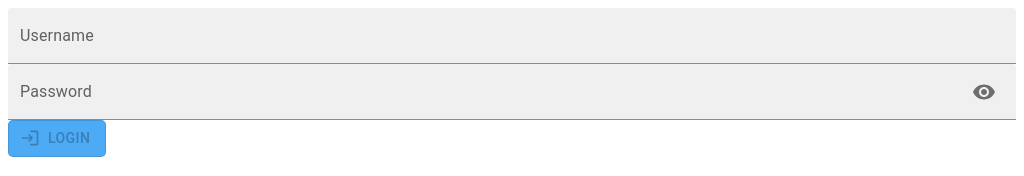
Test case: Login Page › should render login page
Expected: the button "Login" is disabled, [8, 120, 106, 156]
# enter less than 4 characters
In the field labelled "Username": coordinates (512, 36) [8, 8, 1016, 64], type "abc"
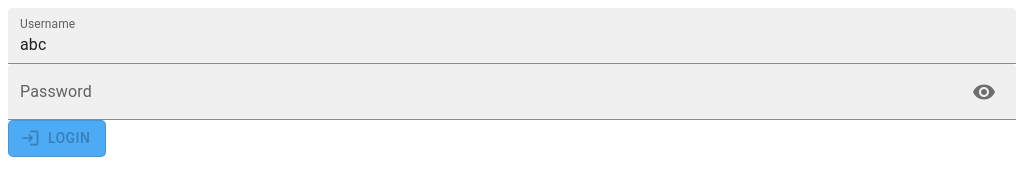
In the password field labelled "Password": coordinates (482, 92) [8, 64, 956, 120], type "123"
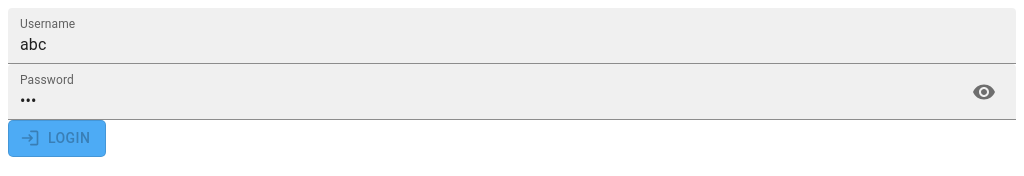
Expected: the button "Login" is disabled, [8, 120, 106, 156]
# enter 4 characters
Replace the text in the field labelled "Username" with "abcd": coordinates (512, 36) [8, 8, 1016, 64]
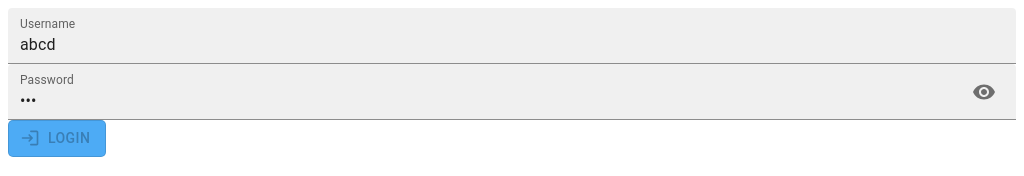
In the password field labelled "Password": coordinates (482, 92) [8, 64, 956, 120], type "1234"
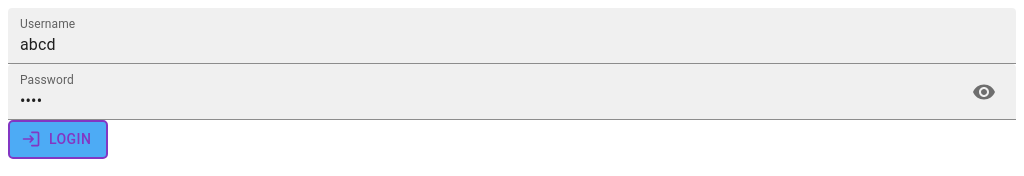
Result: the button "Login" is enabled at [8, 120, 108, 158]
